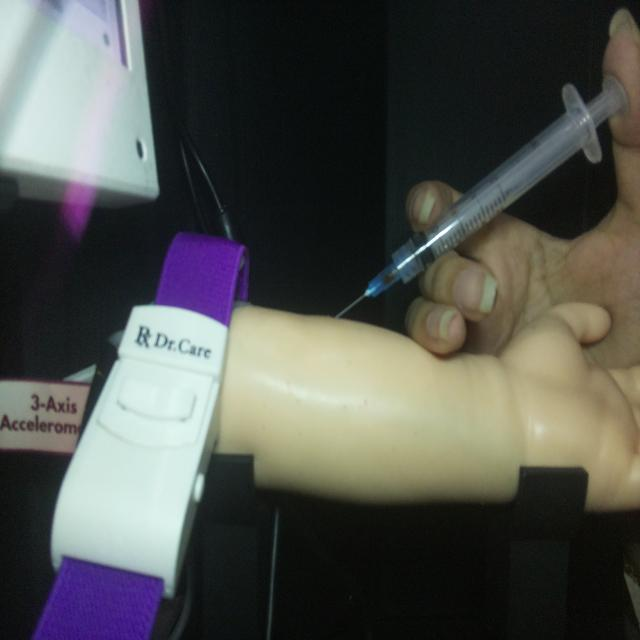30 degrees: (338, 71, 630, 321)
